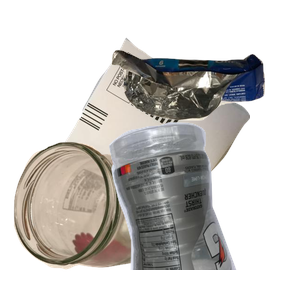glass: (11, 139, 179, 300)
paper: (31, 35, 271, 215)
plastic: (106, 120, 300, 300)
trash: (109, 47, 300, 160)
